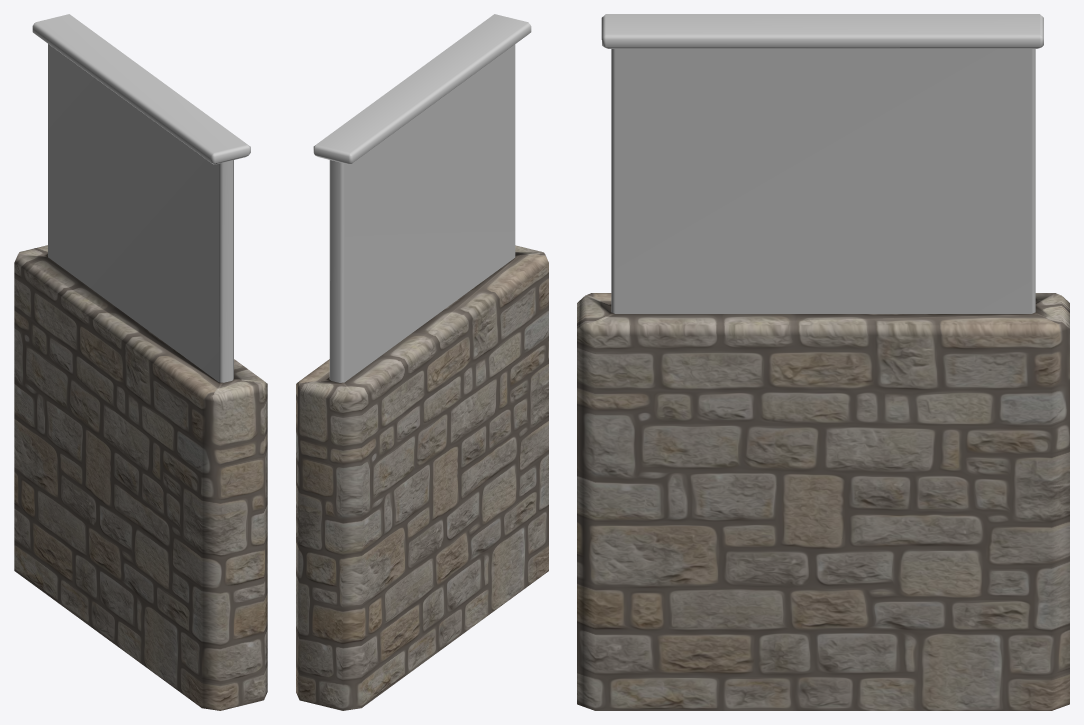
Rendered from StoneWall.fbx.
3 renders of one model, left to right at view 1: azimuth 30°, elevation 25°; view 2: azimuth 150°, elevation 25°; view 3: azimuth 270°, elevation 25°, orthographic. The views are drawn at different scales.
Visible parts, largest first — view 1: Mesh; view 2: Mesh; view 3: Mesh.
Part boxes in pixels (bbox=[...]): Mesh: bbox=[14, 14, 267, 710]; Mesh: bbox=[296, 14, 548, 710]; Mesh: bbox=[577, 14, 1069, 710].
Size of the model in its own units: 64.49 by 514 by 344.
Materials: 4 (1 with a texture image).
